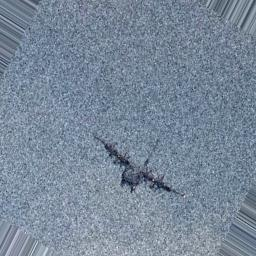Airplane: (94, 132, 185, 197)
